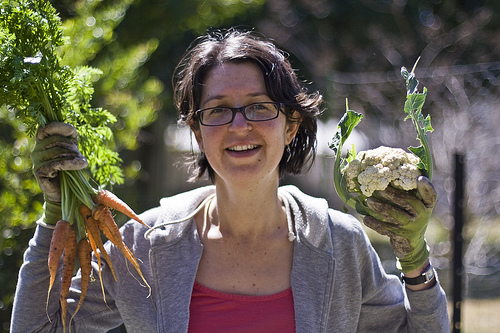cauliflower: (339, 144, 423, 198)
